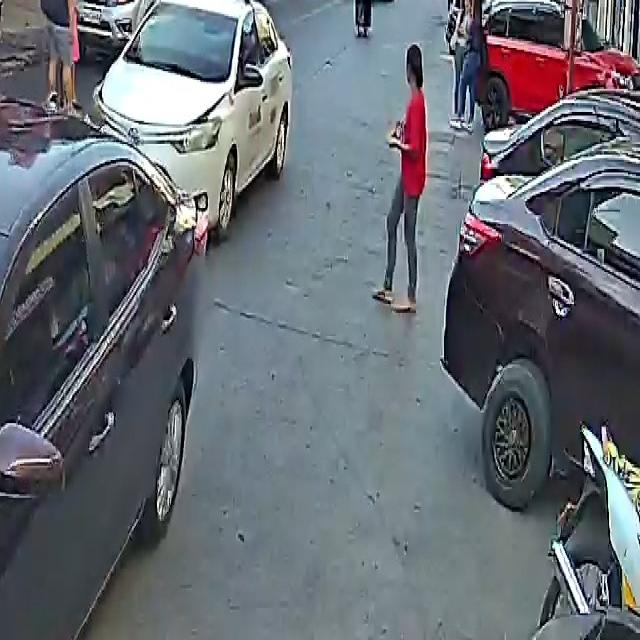car: (0, 76, 238, 640), (444, 67, 640, 533), (91, 0, 298, 251), (472, 0, 639, 126), (77, 0, 192, 46)
